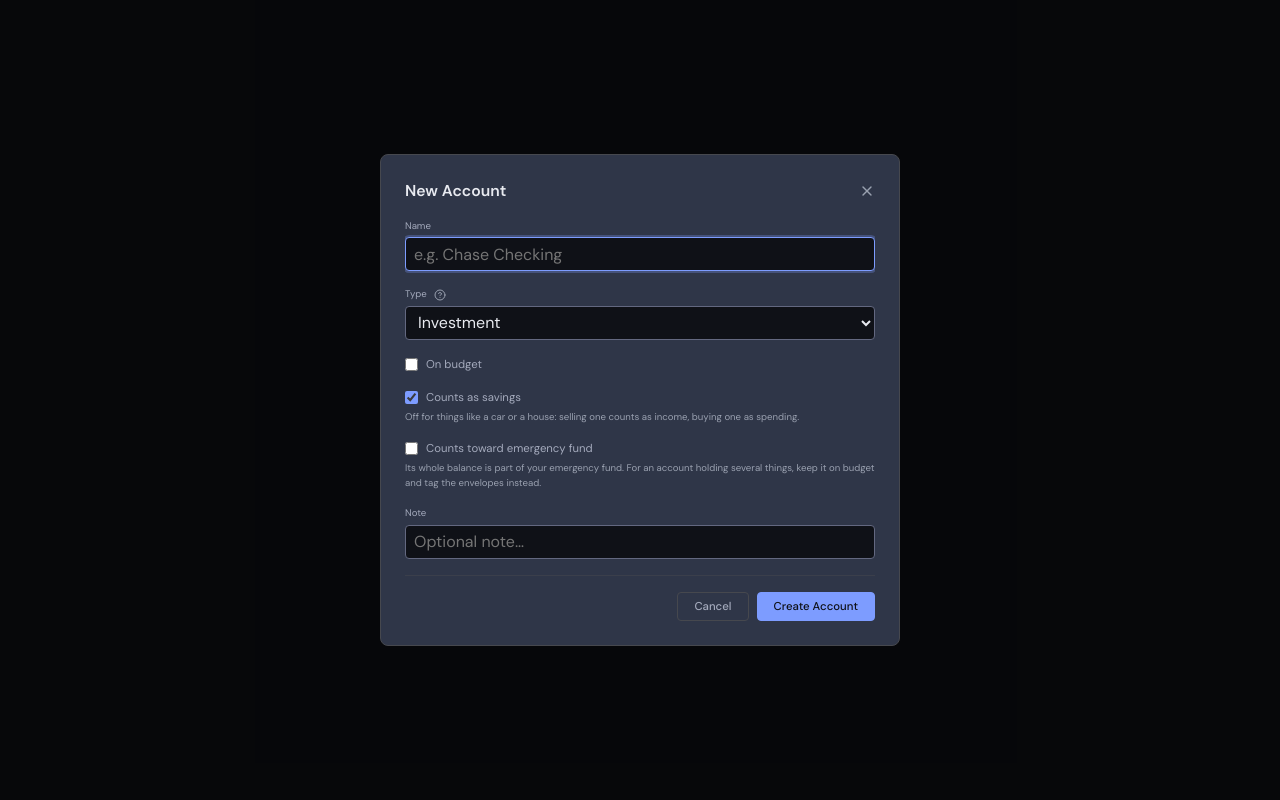
AddAccountModal counts-as-savings toggle › disappears when the asset is put on budget
The image size is (1280, 800).
Expected: the checkbox labelled "Counts as savings" is shown, x1=405 y1=391 x2=418 y2=404
Click the checkbox labelled "On budget" at (412, 364), box x1=405 y1=358 x2=418 y2=371
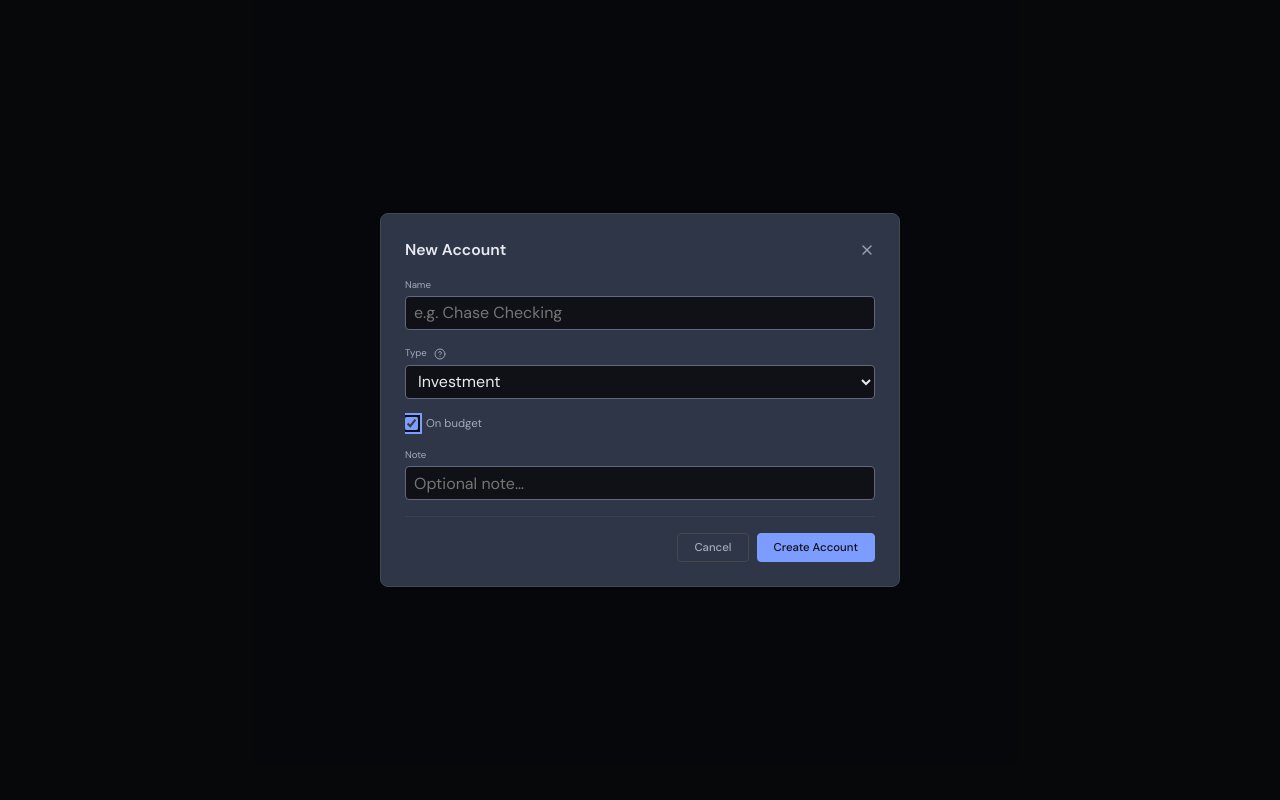
Expected: the text labelled "Counts as savings" is gone
